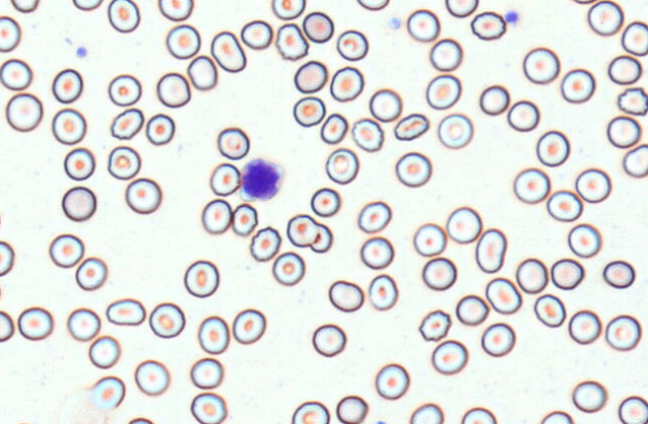LYM: (238, 158, 286, 202)
PLT: (385, 15, 404, 32), (503, 8, 520, 25), (74, 44, 89, 59)
RBC: (5, 92, 43, 132), (210, 30, 246, 72), (522, 46, 560, 84), (475, 227, 506, 273), (124, 177, 162, 214), (445, 205, 482, 243), (513, 167, 550, 204), (485, 277, 522, 314), (604, 314, 641, 351), (183, 259, 219, 297), (394, 151, 432, 187), (587, 0, 624, 36), (148, 302, 185, 338), (134, 359, 170, 396), (431, 339, 468, 375), (574, 167, 611, 203), (437, 112, 473, 149), (51, 107, 86, 145), (425, 73, 461, 109), (329, 65, 364, 102), (374, 363, 409, 400), (535, 129, 570, 166), (90, 375, 125, 411), (48, 233, 84, 268), (61, 185, 96, 221), (156, 71, 190, 108), (275, 22, 308, 60), (197, 315, 229, 354), (165, 24, 200, 59), (560, 68, 595, 103), (17, 306, 53, 340), (232, 308, 266, 344), (546, 189, 583, 222), (325, 147, 358, 184), (567, 223, 601, 258), (66, 307, 101, 341), (421, 256, 456, 290), (107, 145, 141, 180), (412, 222, 447, 256), (480, 322, 515, 356), (515, 257, 548, 293), (190, 391, 227, 423), (105, 297, 145, 326), (368, 88, 402, 122), (406, 8, 440, 42), (312, 323, 346, 357), (359, 236, 394, 269), (328, 279, 363, 312), (606, 115, 641, 148), (568, 309, 601, 344), (286, 213, 319, 247), (550, 257, 584, 290), (272, 251, 305, 285), (293, 60, 327, 93), (110, 107, 144, 140), (357, 200, 391, 233), (533, 293, 566, 327), (429, 37, 462, 71), (107, 73, 141, 106), (75, 256, 107, 291), (249, 226, 281, 261), (51, 68, 83, 103), (572, 380, 607, 412), (351, 117, 383, 152), (186, 54, 217, 90), (201, 198, 232, 234), (368, 273, 398, 310), (189, 357, 223, 389), (209, 162, 241, 196), (607, 54, 642, 85), (470, 10, 506, 40), (292, 95, 325, 127), (63, 147, 95, 180), (88, 335, 120, 368), (506, 99, 539, 131), (418, 309, 451, 341), (107, 0, 140, 32), (217, 126, 249, 159), (393, 112, 429, 141), (0, 58, 32, 90), (302, 11, 334, 43), (336, 29, 368, 61), (455, 294, 488, 325), (240, 19, 273, 49), (145, 113, 175, 145), (335, 394, 368, 423), (602, 259, 635, 288), (621, 20, 647, 56), (479, 84, 509, 115), (310, 187, 340, 217), (320, 112, 348, 144), (231, 203, 258, 236), (622, 143, 647, 178), (291, 400, 329, 423), (617, 86, 647, 115), (618, 395, 647, 423), (0, 15, 21, 52), (157, 0, 193, 21), (409, 402, 443, 423), (309, 222, 332, 253), (271, 0, 305, 20), (460, 406, 496, 423), (445, 0, 478, 17), (0, 240, 14, 276), (539, 410, 573, 424), (0, 310, 14, 342), (10, 0, 39, 13), (72, 0, 103, 11), (356, 0, 389, 10), (126, 416, 154, 424), (570, 0, 596, 4), (370, 420, 389, 424), (0, 279, 3, 302)
